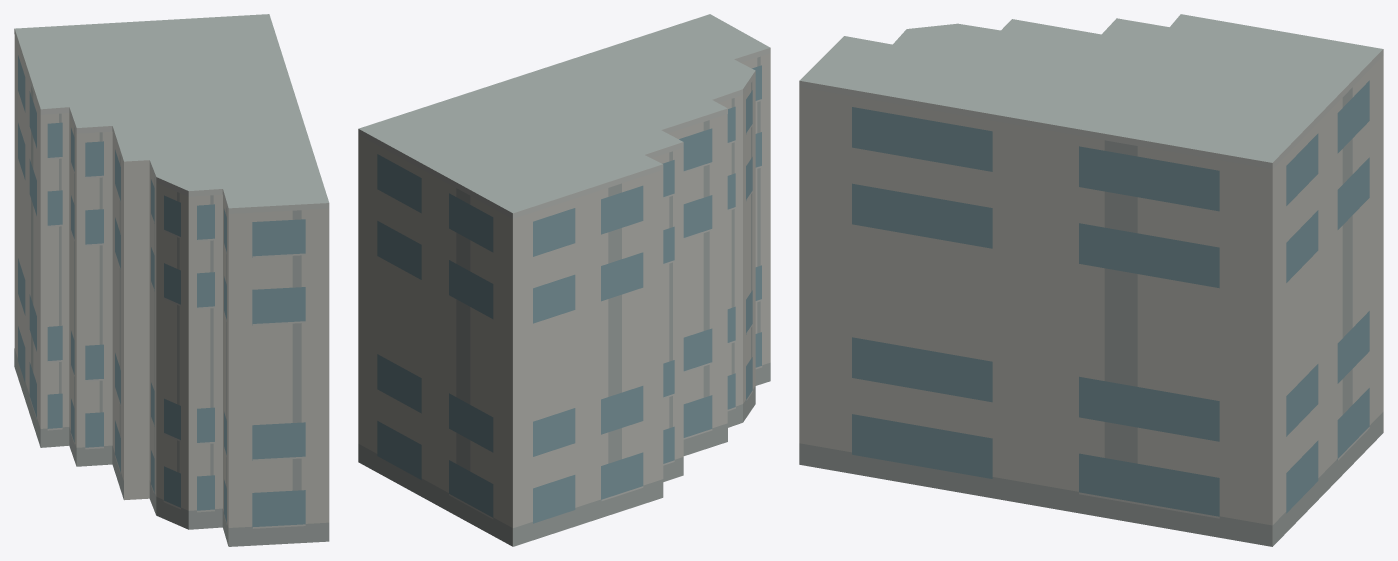
Rendered from survey-upis-32616062.glb.
3 renders of one model, left to right at view 1: azimuth 30°, elevation 25°; view 2: azimuth 150°, elevation 25°; view 3: azimuth 270°, elevation 25°, orthographic. The views are drawn at different scales.
Parts seen in each view (by area): view 1: survey-upis-32616062.tmp; view 2: survey-upis-32616062.tmp; view 3: survey-upis-32616062.tmp.
Part boxes in pixels (x1=…): survey-upis-32616062.tmp: x1=14, y1=14, x2=329, y2=546; survey-upis-32616062.tmp: x1=358, y1=14, x2=770, y2=546; survey-upis-32616062.tmp: x1=799, y1=14, x2=1383, y2=546.
Bounding box in the file's own units: 11.86 × 14.25 × 19.66.
